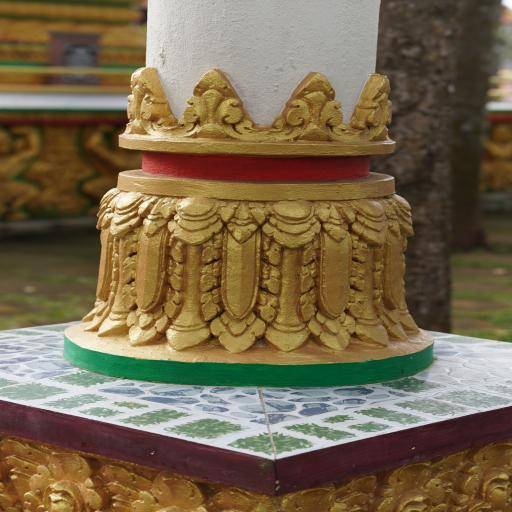la: (214, 190, 330, 357), (304, 191, 396, 350), (358, 183, 436, 349), (139, 196, 206, 344), (173, 56, 259, 144), (94, 189, 140, 338), (266, 66, 343, 146), (113, 55, 178, 140), (350, 67, 404, 147)
